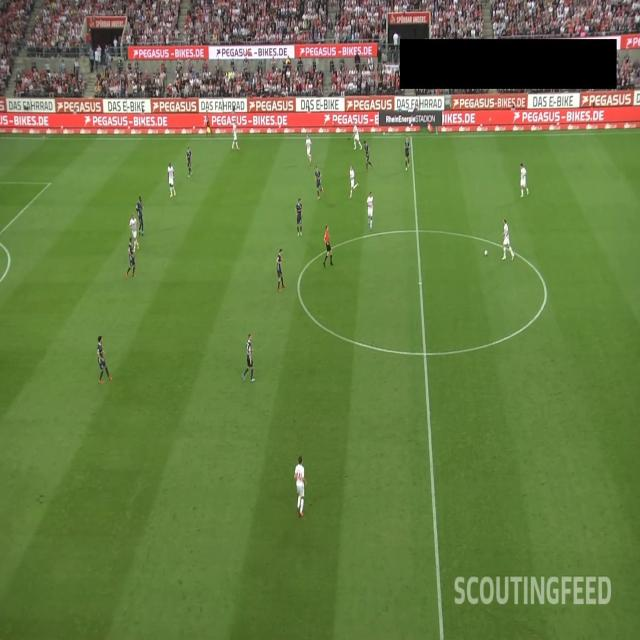ball: (484, 250, 488, 256)
